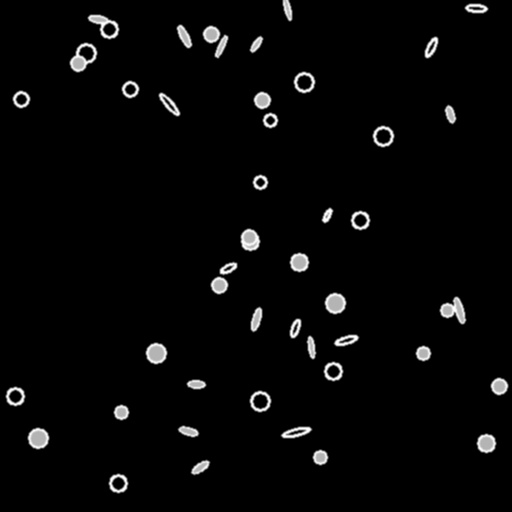pseudomonas: (158, 92, 180, 116), (176, 24, 192, 48), (423, 36, 439, 58), (282, 426, 310, 438), (214, 34, 228, 58), (190, 459, 210, 475), (453, 297, 465, 323), (334, 334, 358, 346), (250, 308, 262, 330), (178, 425, 198, 437), (249, 36, 263, 52), (289, 319, 301, 337), (444, 105, 456, 123), (282, 0, 292, 20), (321, 207, 333, 223), (220, 262, 236, 274), (307, 336, 315, 358), (465, 4, 487, 12), (89, 15, 107, 23), (188, 380, 204, 388)
synechocystis: (147, 344, 165, 362), (77, 44, 95, 62), (295, 73, 313, 91), (29, 429, 47, 447), (326, 294, 344, 312), (374, 127, 392, 145), (251, 392, 269, 410), (148, 345, 164, 361), (325, 363, 341, 379), (242, 233, 258, 249), (101, 21, 117, 37), (110, 475, 126, 491), (478, 435, 494, 451), (291, 254, 307, 270), (352, 212, 368, 228), (7, 388, 23, 404), (123, 82, 137, 96), (14, 92, 28, 106), (212, 278, 226, 292), (492, 379, 506, 393), (255, 93, 269, 107), (204, 27, 218, 41), (242, 230, 256, 244), (71, 56, 85, 70), (417, 347, 429, 359), (441, 304, 453, 316), (115, 406, 127, 418), (264, 114, 276, 126), (314, 451, 326, 463), (254, 176, 266, 188)
